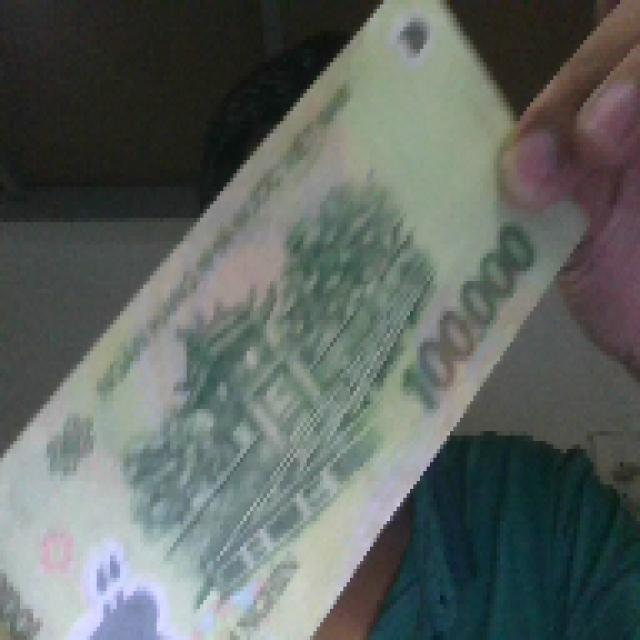100 000 VND: (0, 0, 597, 636)
